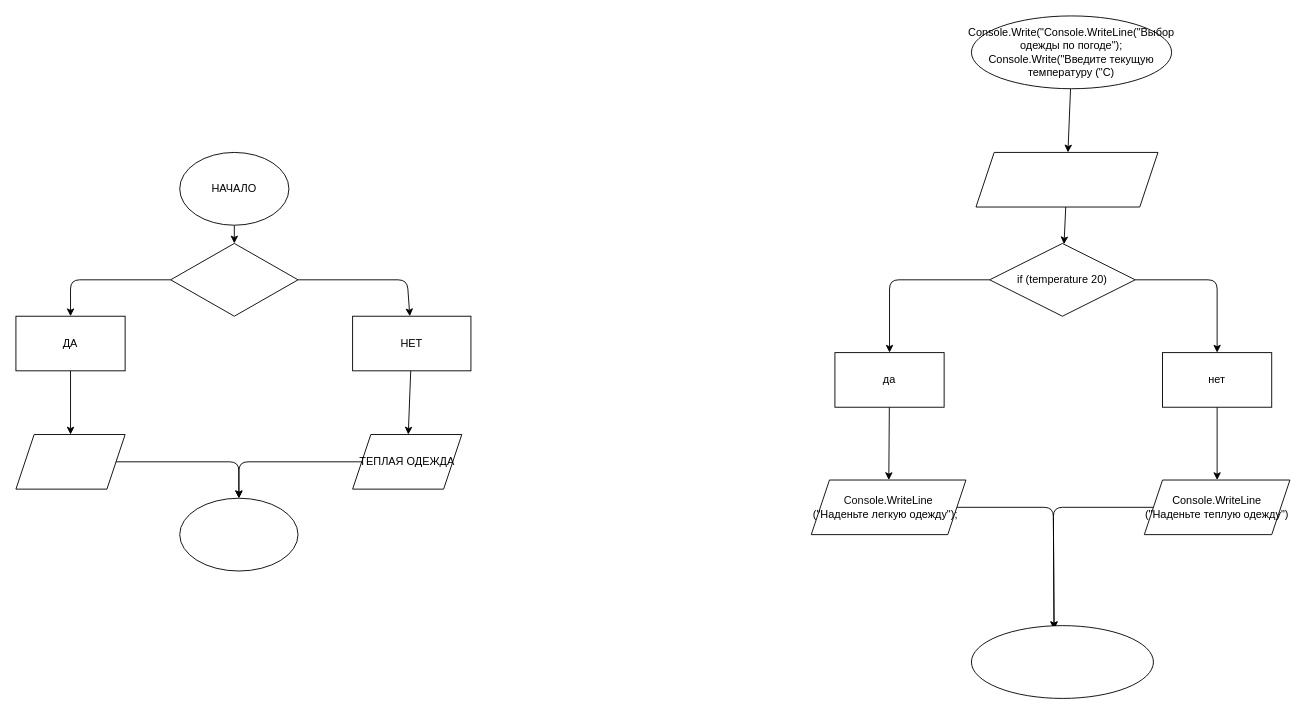
Image size: 1306x714. Some labels were removed from this diagram. The centre of each missing label's shape, as x and y in pixels:
Console.WriteLine ("Хорошего дня!");: (1062,661)
int temperature = Convert.ToInt32 (Console.ReadLine());: (1066,179)
КОНЕЦ: (238,534)
ЛЕГКАЯ ОДЕЖДА: (70,461)
ТЕМПЕРАТУРА >=20С?: (234,279)
